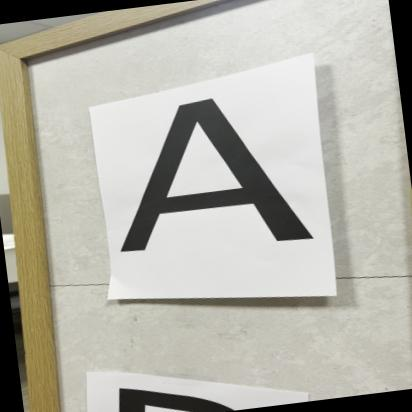seat: (99, 78, 337, 276)
